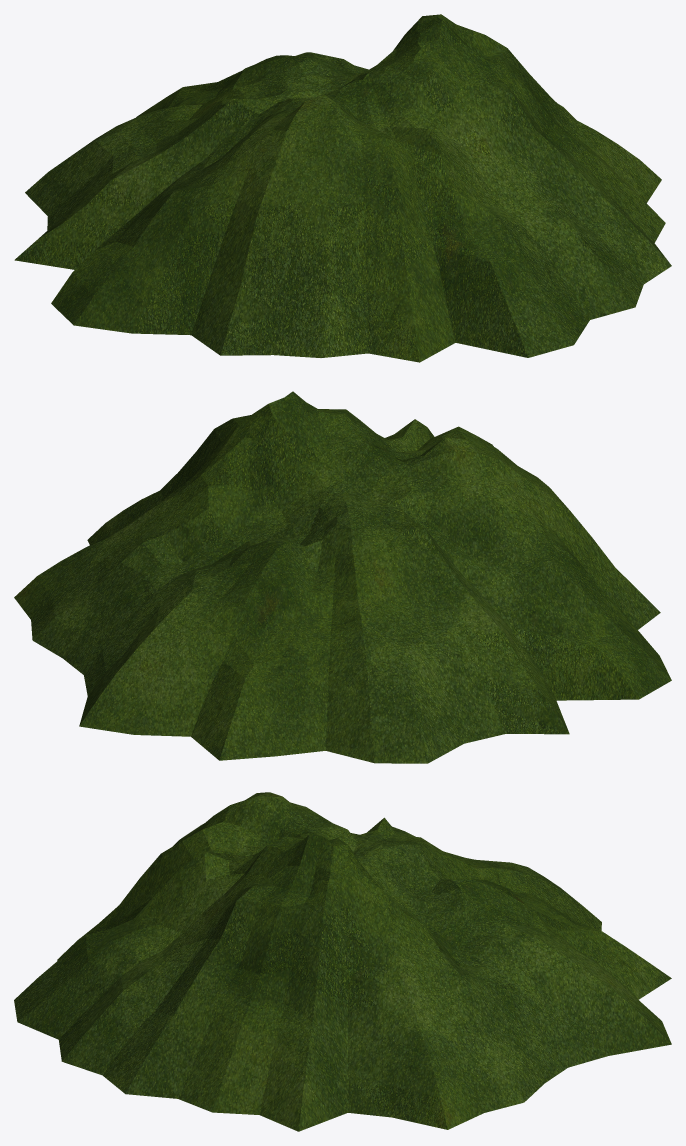
Rendered from rock_moss_patch_v02.glb.
The picture shows the model from 3 angles, top to bottom: view 1: azimuth 30°, elevation 25°; view 2: azimuth 150°, elevation 25°; view 3: azimuth 270°, elevation 25°; orthographic projection. The views are drawn at different scales.
Visible parts, largest first — view 1: rock_moss_patch_v02; view 2: rock_moss_patch_v02; view 3: rock_moss_patch_v02.
Part boxes in pixels (x1,y1,x2,y2): rock_moss_patch_v02: [14, 14, 671, 362]; rock_moss_patch_v02: [14, 391, 671, 763]; rock_moss_patch_v02: [14, 792, 671, 1131].
Size of the model in its own units: 0.6535 by 0.2191 by 0.6613.
1 material, 1 textured.
